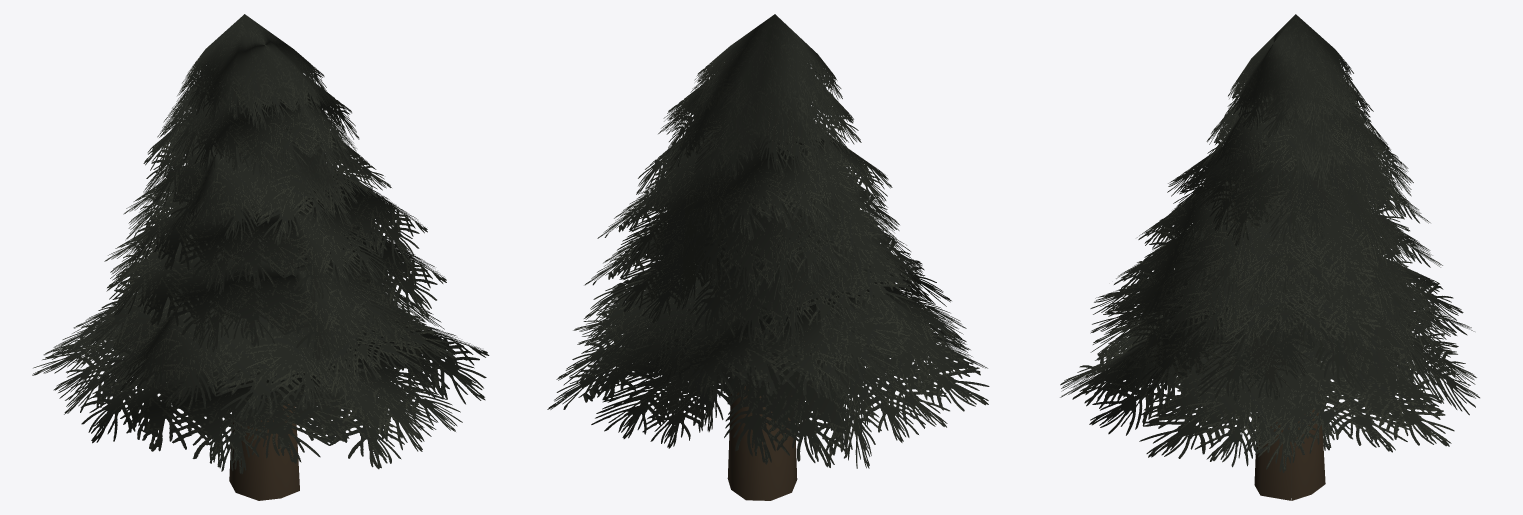
Rendered from Pine_1.fbx.
The picture shows the model from 3 angles, left to right: view 1: azimuth 30°, elevation 25°; view 2: azimuth 150°, elevation 25°; view 3: azimuth 270°, elevation 25°; orthographic projection. The views are drawn at different scales.
Visible parts, largest first — view 1: Pine_1; view 2: Pine_1; view 3: Pine_1.
Boxes of the visible parts, x1=… form: Pine_1: x1=32, y1=14, x2=489, y2=500; Pine_1: x1=547, y1=14, x2=989, y2=500; Pine_1: x1=1060, y1=14, x2=1479, y2=500.
Size of the model in its own units: 5.31 by 5.63 by 5.09.
